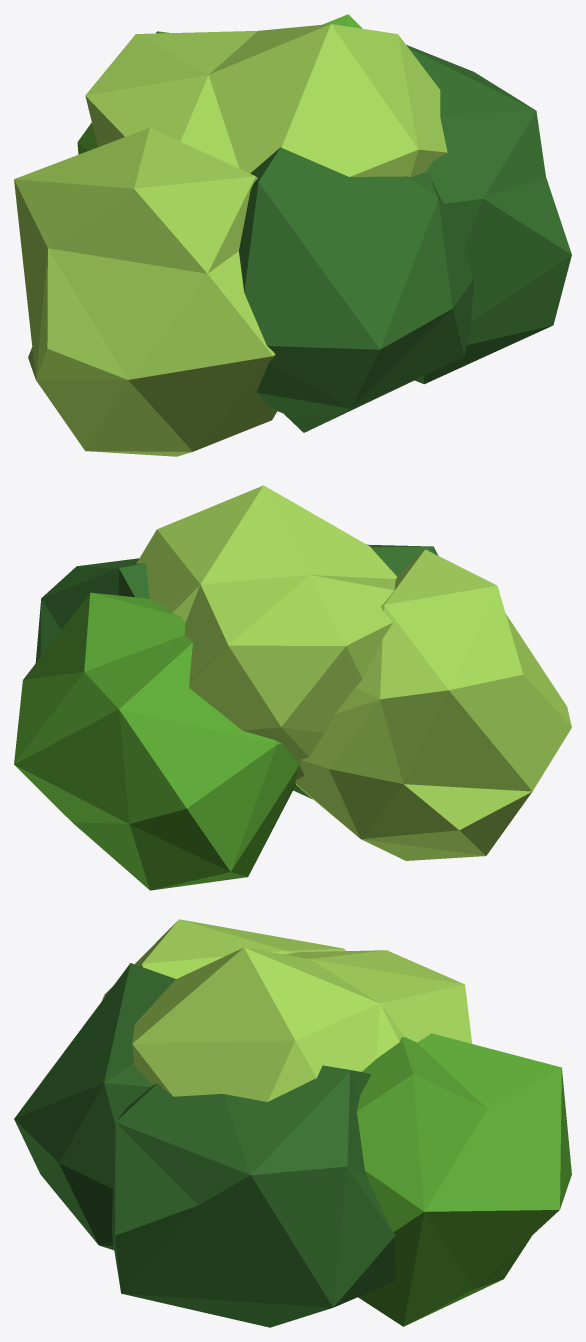
File: bush_2_lod1.glb
3 renders of one model, top to bottom at view 1: azimuth 30°, elevation 25°; view 2: azimuth 150°, elevation 25°; view 3: azimuth 270°, elevation 25°, orthographic. The views are drawn at different scales.
Parts seen in each view (by area): view 1: bush_2_lod1; view 2: bush_2_lod1; view 3: bush_2_lod1.
Part boxes in pixels (x1,y1,x2,y2): bush_2_lod1: (14,14,571,456); bush_2_lod1: (14,485,571,890); bush_2_lod1: (14,919,571,1327).
Size of the model in its own units: 1.96 by 1.38 by 1.89.
